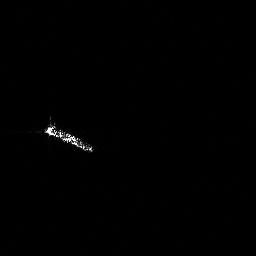ship: (39, 116, 94, 155)
